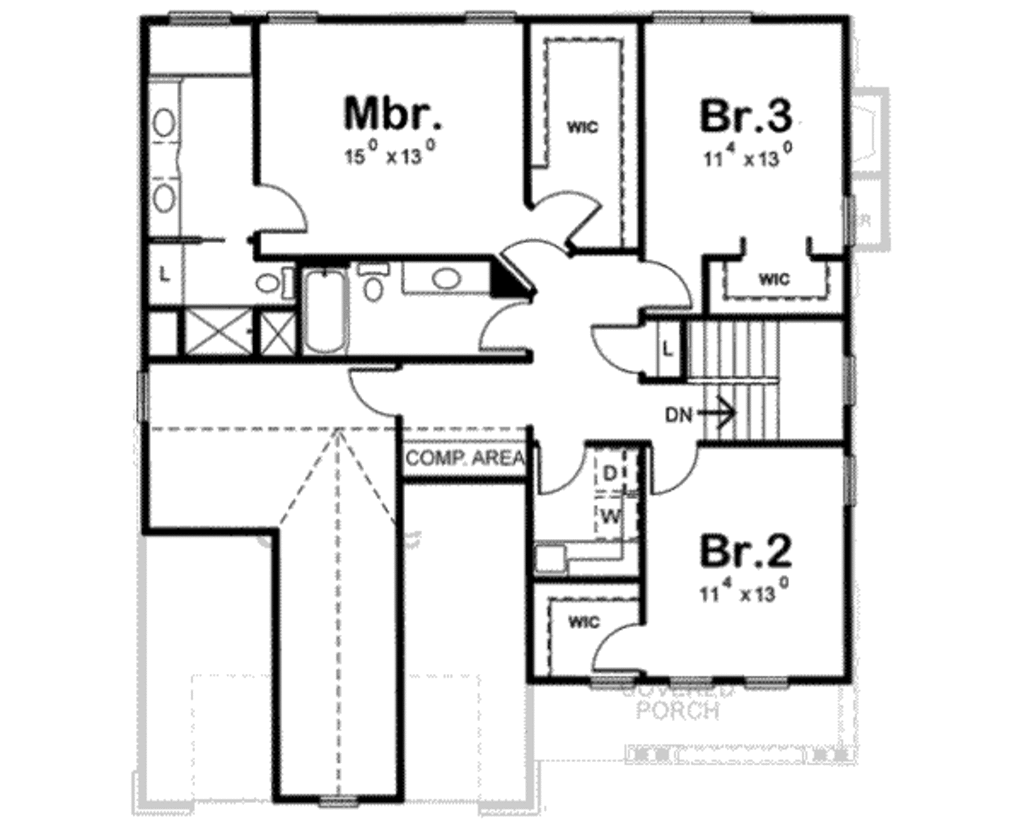door: (523, 168, 606, 241), (583, 317, 666, 382), (465, 290, 543, 359), (492, 232, 573, 291), (633, 429, 701, 497), (242, 175, 316, 237), (347, 354, 407, 427), (638, 251, 706, 314), (584, 620, 656, 673), (532, 432, 592, 495)
large_sink: (247, 261, 296, 302), (352, 255, 387, 304)
small_sink: (146, 78, 186, 238), (400, 260, 488, 296)
stairs: (663, 315, 833, 441)
tub: (306, 268, 348, 361)
window: (654, 5, 765, 32), (168, 6, 237, 33), (269, 1, 327, 33), (837, 347, 861, 414), (459, 6, 528, 29), (840, 455, 865, 508), (740, 672, 798, 693), (663, 675, 724, 693), (590, 675, 650, 692)
